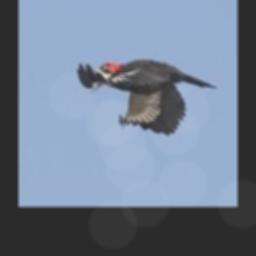Woodpecker: (77, 58, 217, 135)
